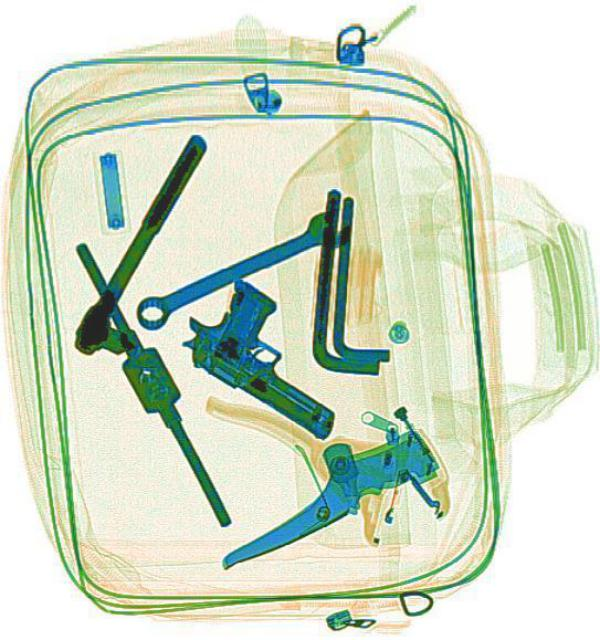Gun: (167, 266, 373, 440)
Wrench: (127, 204, 348, 336)
